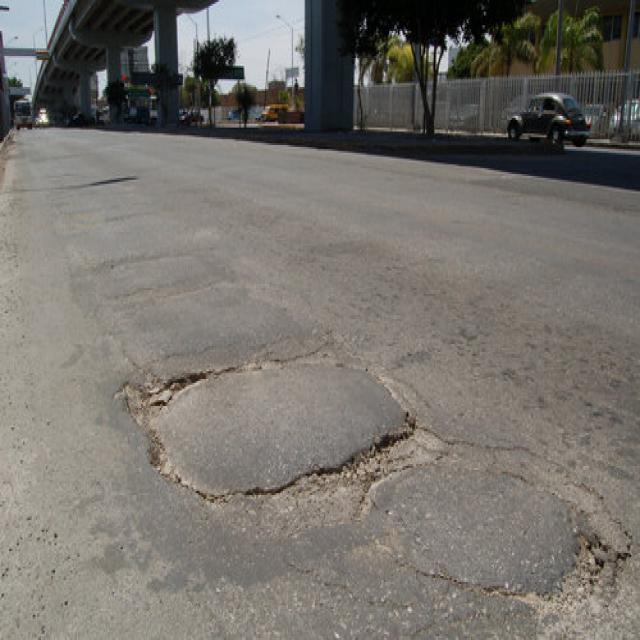Pothole: (99, 282, 446, 538)
